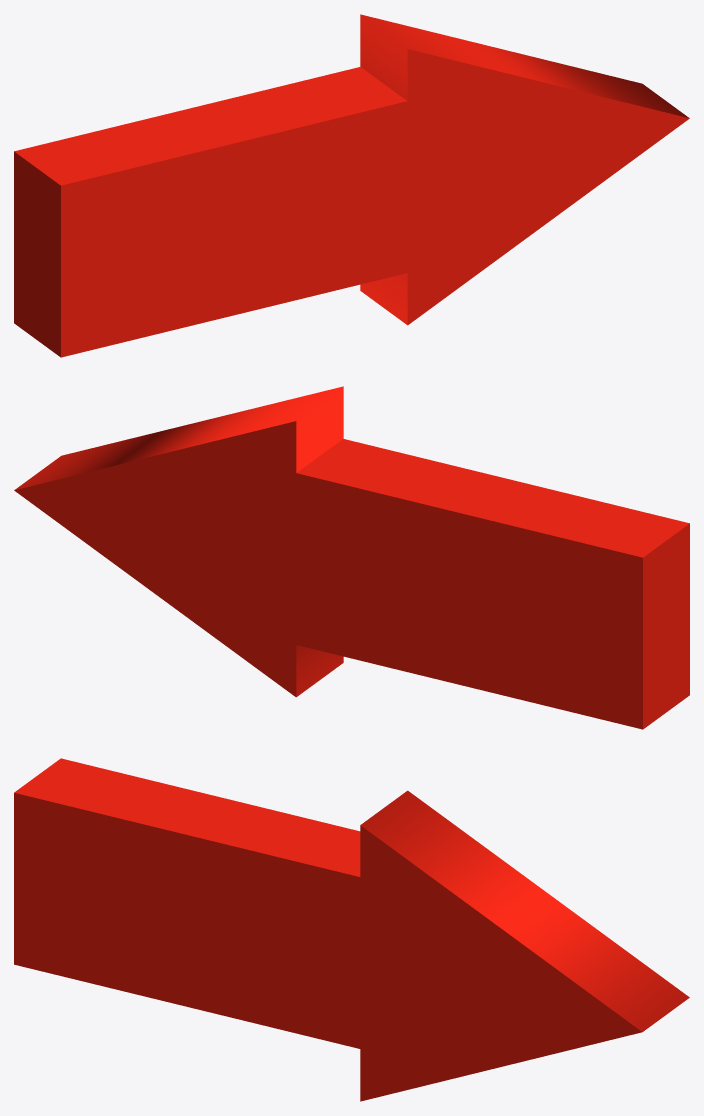
Rendered from FloatyArrow.fbx.
3 views of the same model, one above another, from view 1: azimuth 30°, elevation 25°; view 2: azimuth 150°, elevation 25°; view 3: azimuth 330°, elevation 25° (orthographic).
Parts seen in each view (by area): view 1: $ColladaAutoName$_1, $ColladaAutoName$_2; view 2: $ColladaAutoName$_1, $ColladaAutoName$_2; view 3: $ColladaAutoName$_1, $ColladaAutoName$_2.
Boxes of the visible parts, x1,y1,x2,y2 form: $ColladaAutoName$_1: (14,67,407,357); $ColladaAutoName$_2: (360,14,689,325); $ColladaAutoName$_1: (296,439,689,729); $ColladaAutoName$_2: (14,386,343,697); $ColladaAutoName$_1: (14,758,360,1048); $ColladaAutoName$_2: (360,790,689,1101).
Bounding box in the file's own units: 383 × 161 × 50.
